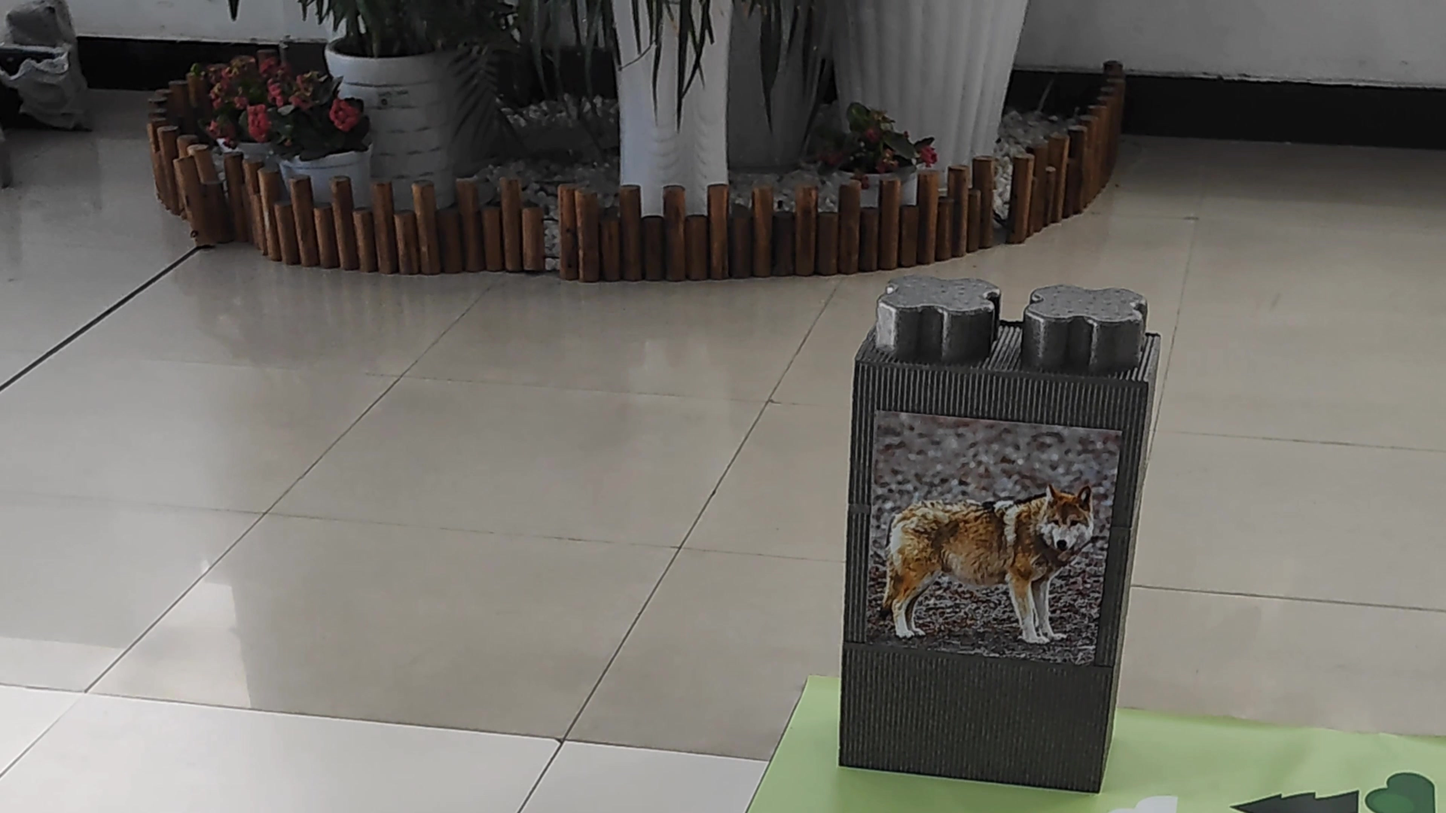wolf: (864, 483, 1105, 662)
